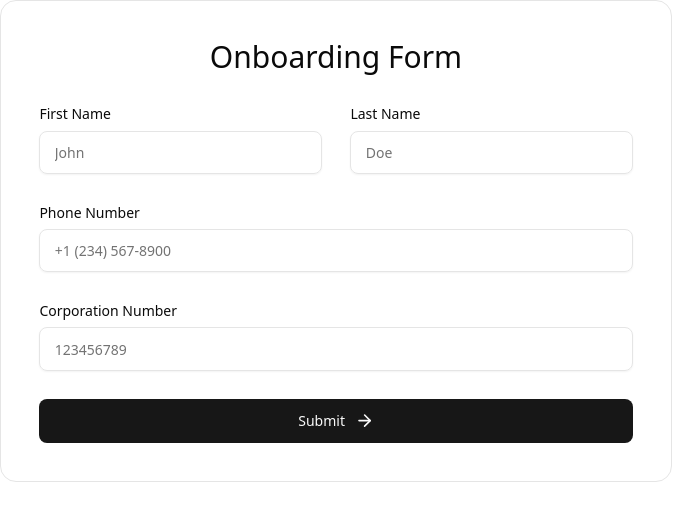
it: OnboardingForm › Phone Number Validation › should show error when phone is empty on blur
The width and height of the screenshot is (689, 526).
Click the field labelled "Phone Number": (336, 251) [39,229,633,272]
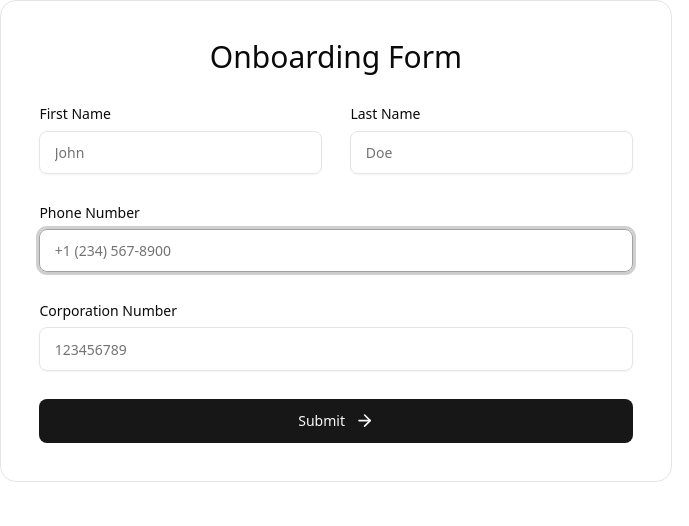
Press Tab
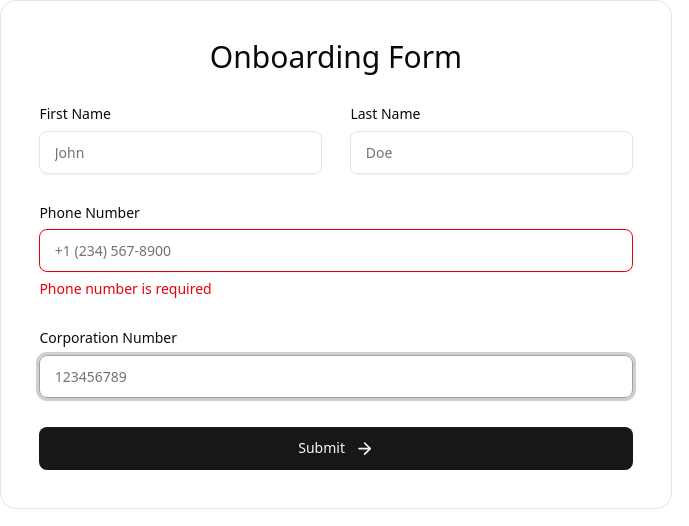
expect the text "Phone number is required" is shown: met, box [39,279,212,298]
